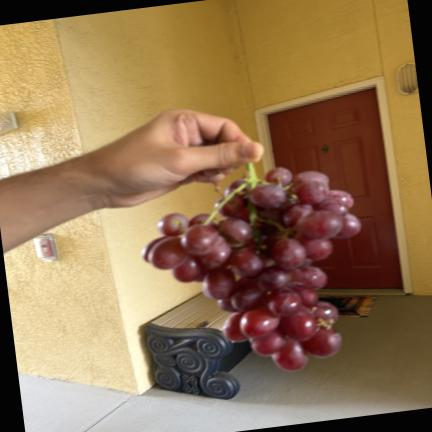grape_cluster: (141, 163, 361, 370)
